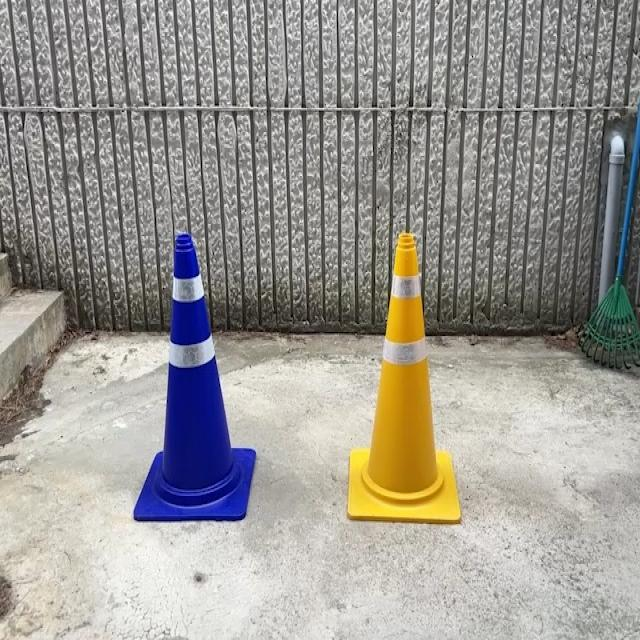b_rub: (134, 232, 256, 522)
y_rub: (348, 233, 462, 523)
